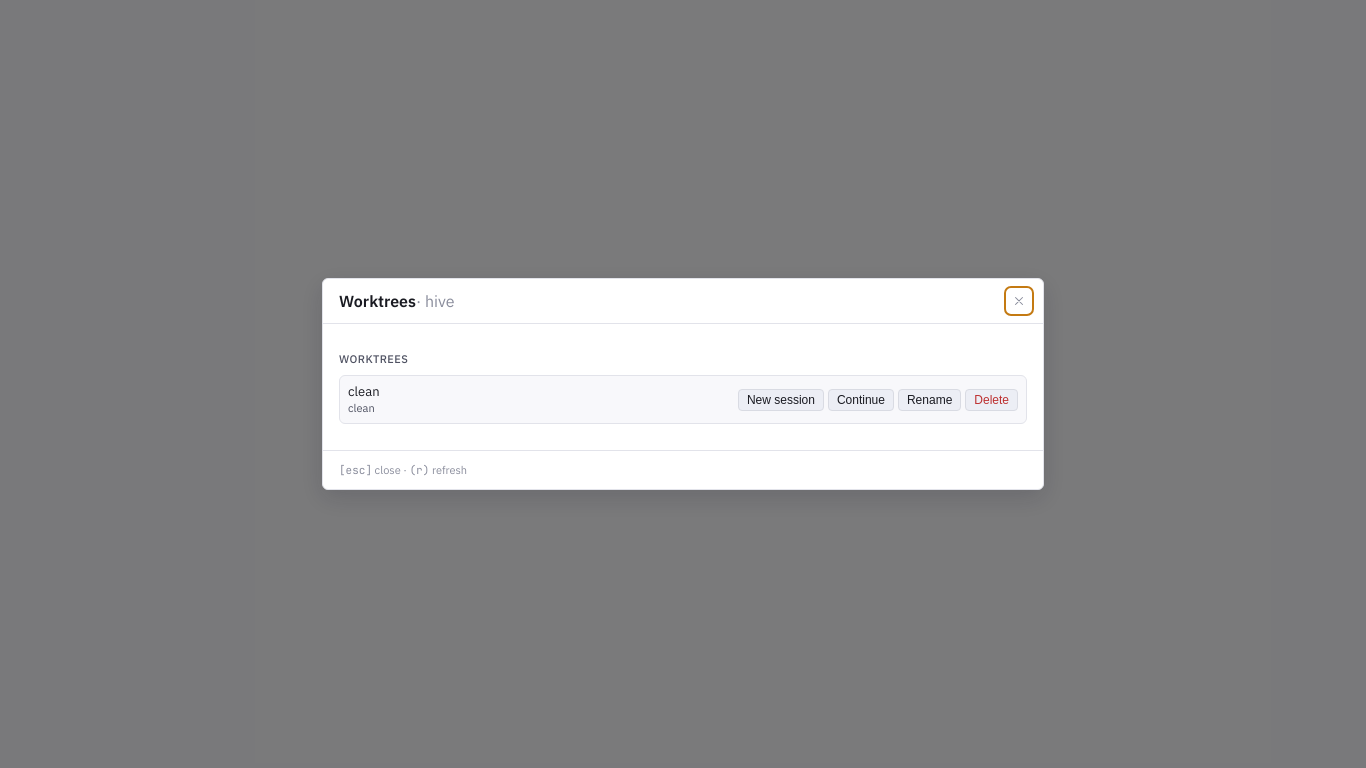
renaming › sends nothing on Escape
Click the button "Rename": {"x": 930, "y": 400} [898,389,961,411]
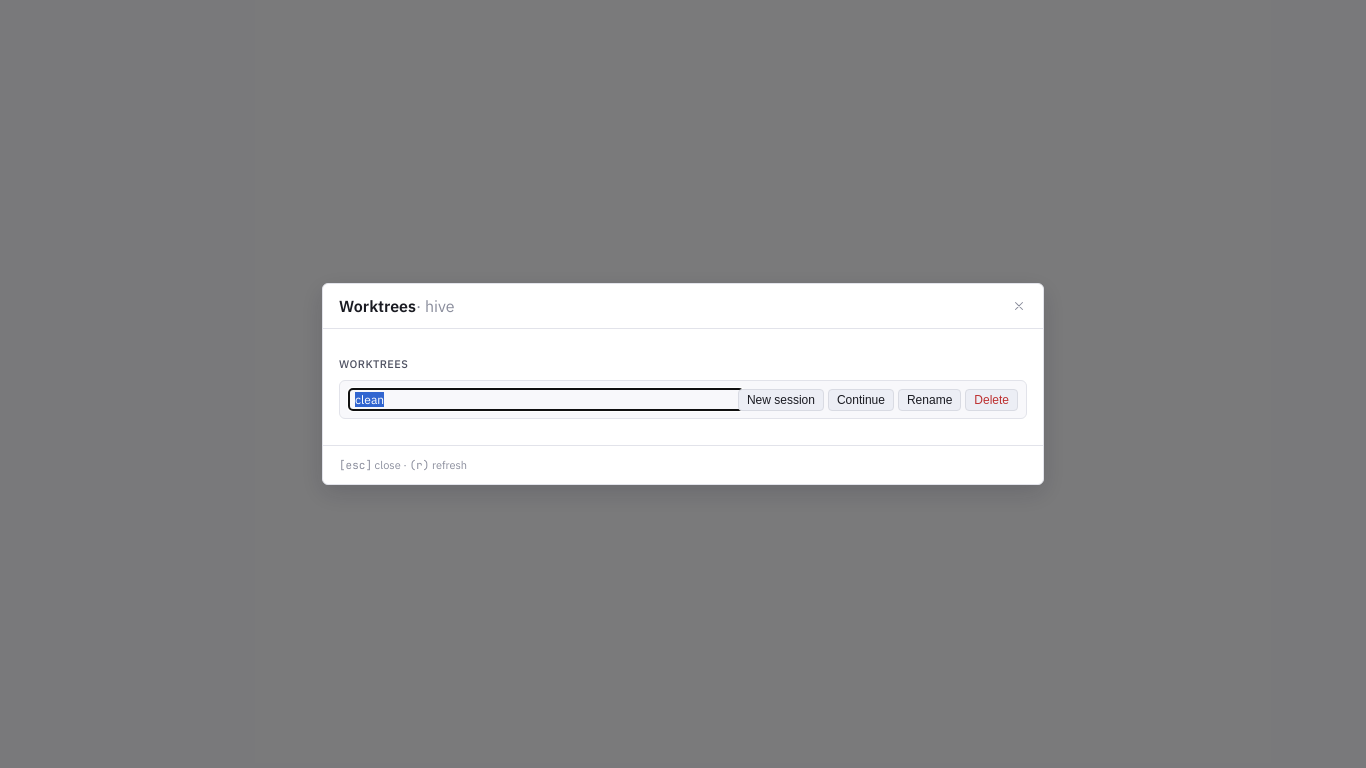
Replace the text in the field named "New branch name" with "discarded": {"x": 546, "y": 400} [348,388,744,411]
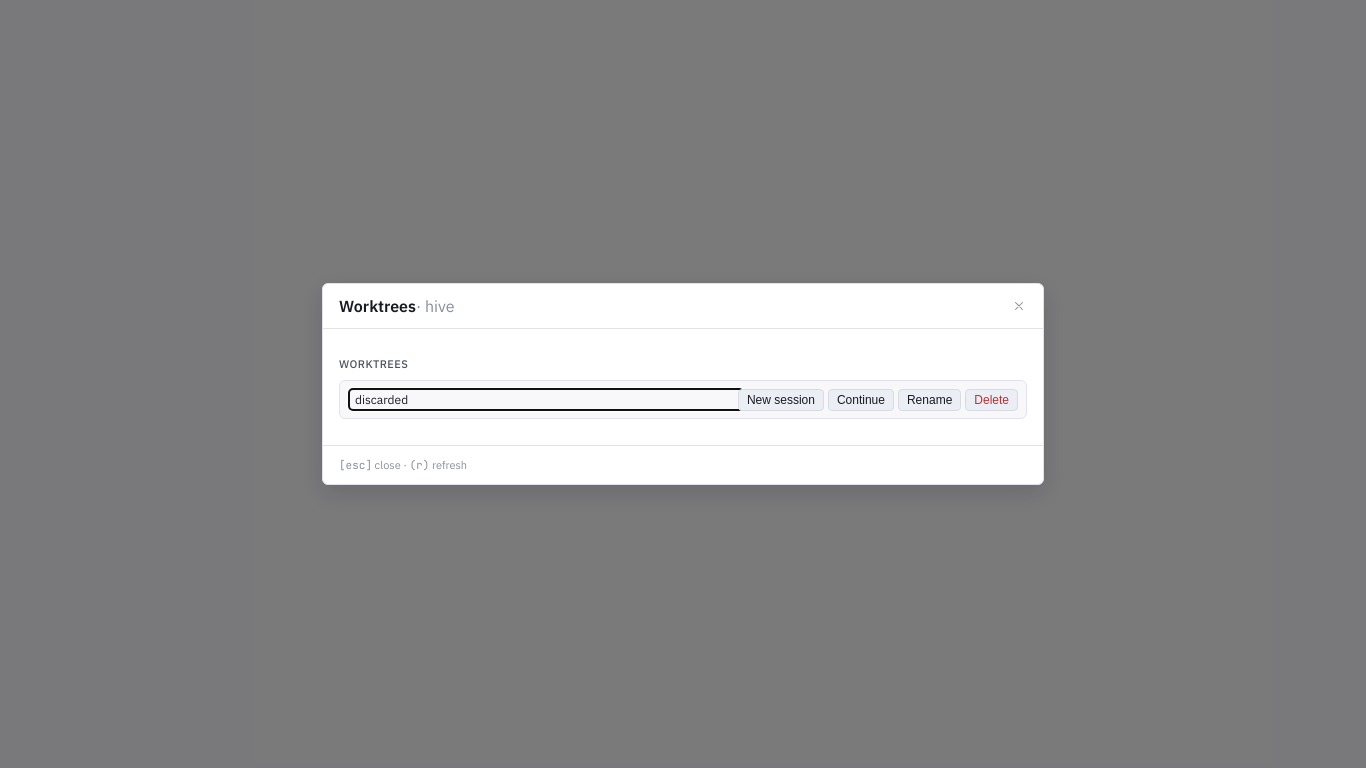
Press Escape in the field named "New branch name", box [348,388,744,411]
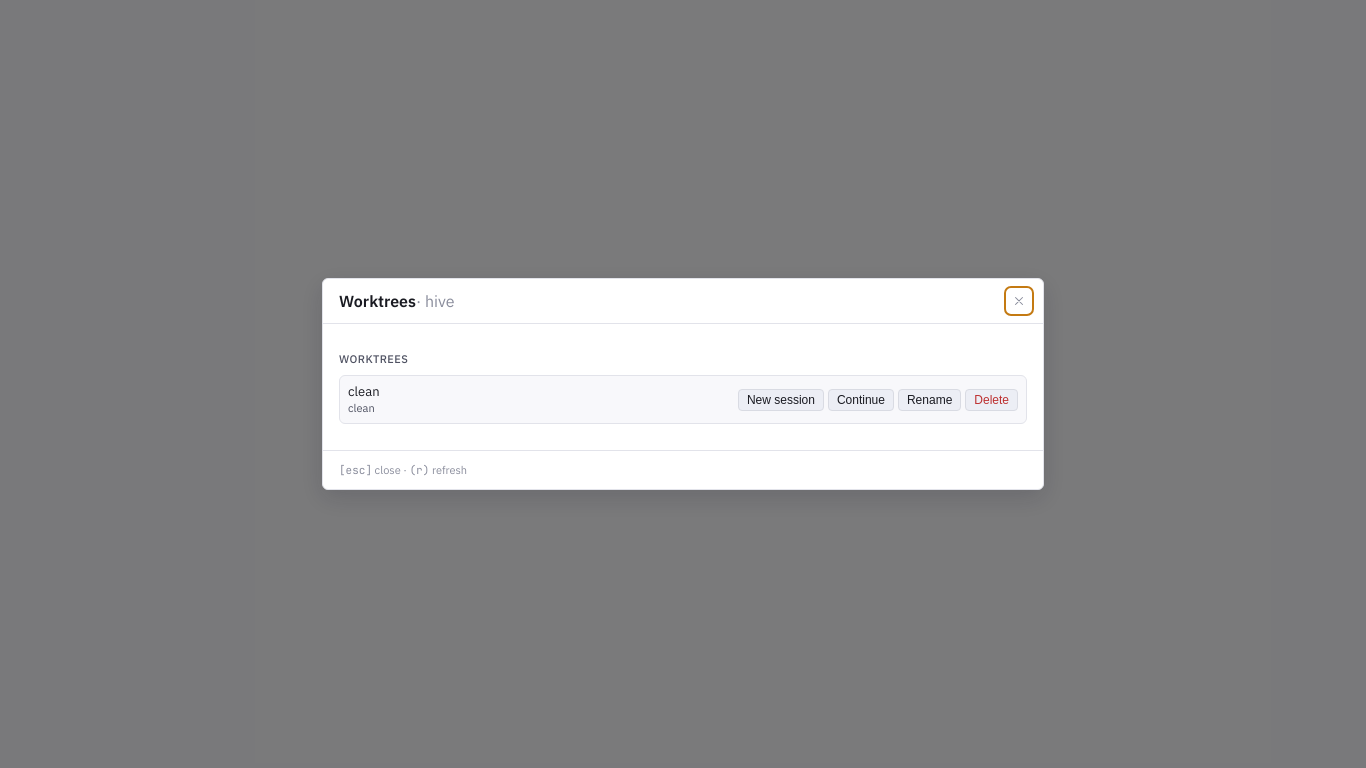
Check: the field is gone
